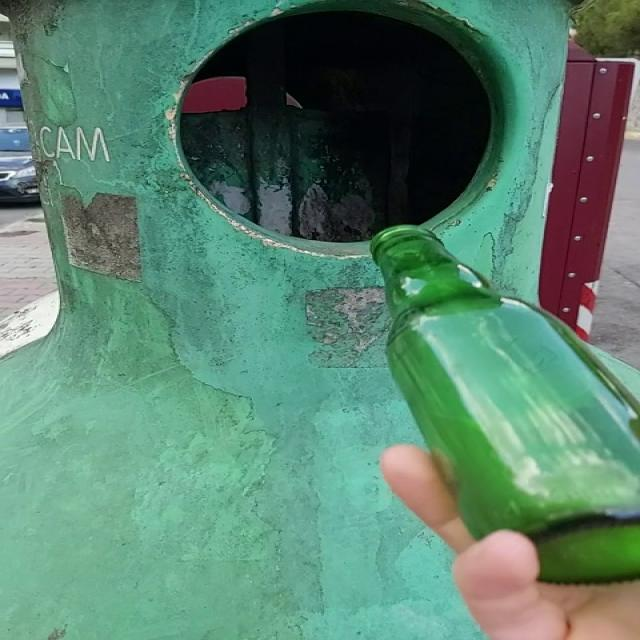glass: (372, 226, 640, 584)
